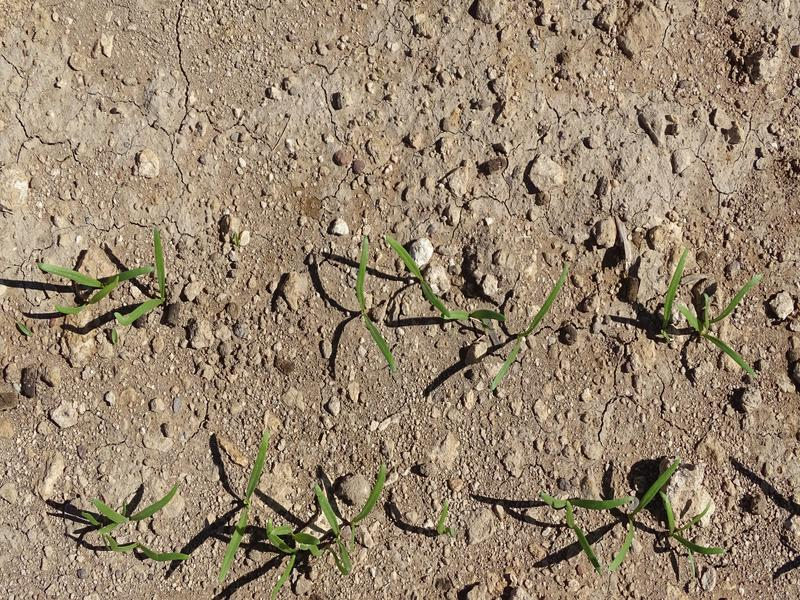Espinaca: (532, 486, 728, 568), (269, 463, 393, 585), (659, 244, 767, 379), (35, 228, 173, 331), (388, 232, 505, 329), (75, 491, 211, 563), (493, 268, 573, 388), (215, 432, 273, 585), (354, 231, 400, 373)
